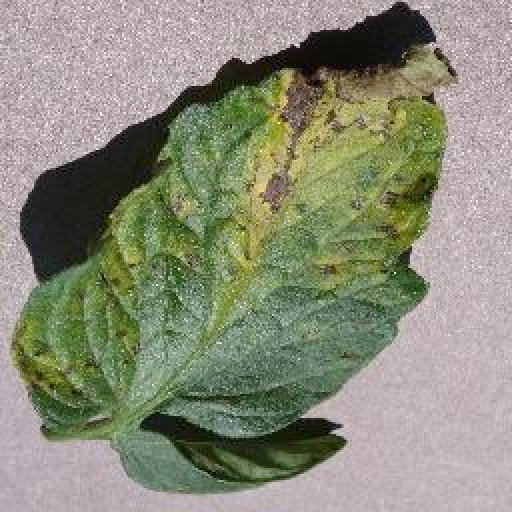disease_tomato: (12, 40, 450, 436)
